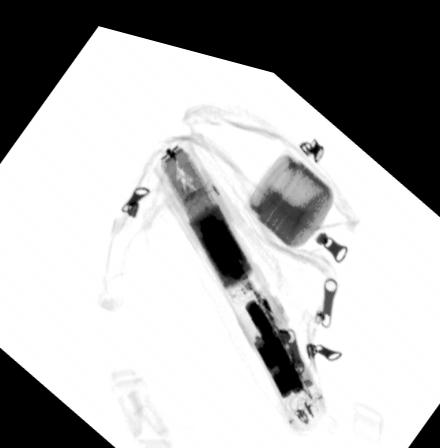Baton: (151, 130, 330, 423)
